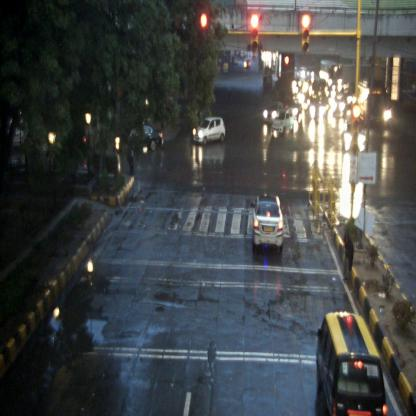bus: (358, 76, 392, 128), (320, 60, 342, 86)
car: (316, 310, 386, 416), (253, 193, 284, 254), (117, 127, 164, 154), (190, 115, 228, 145), (272, 108, 293, 135)
